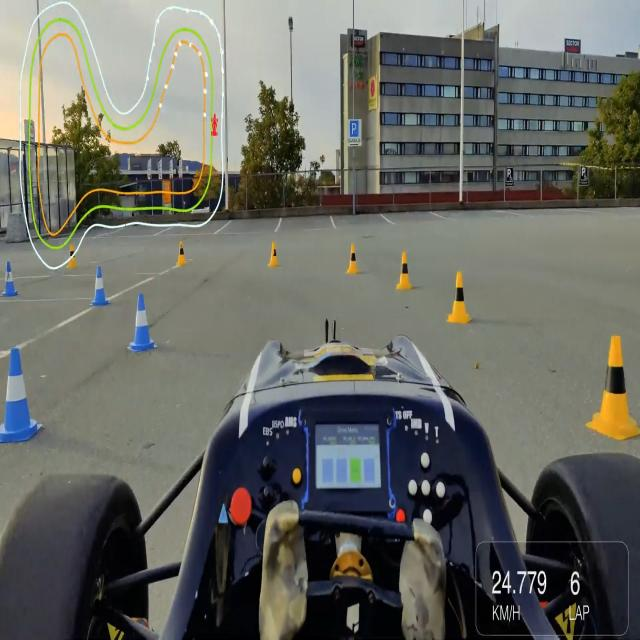blue_cone: (0, 341, 46, 441), (128, 291, 158, 352), (92, 262, 110, 303), (3, 259, 21, 296)
yellow_cone: (592, 332, 638, 445), (448, 275, 470, 329), (397, 252, 413, 295), (347, 244, 361, 279), (268, 241, 280, 269), (177, 242, 187, 268), (68, 245, 76, 270)
